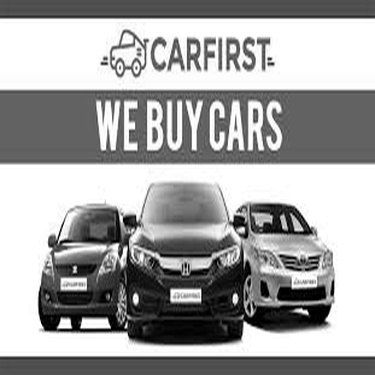car: (119, 173, 247, 343), (222, 194, 340, 327), (36, 193, 137, 340)
